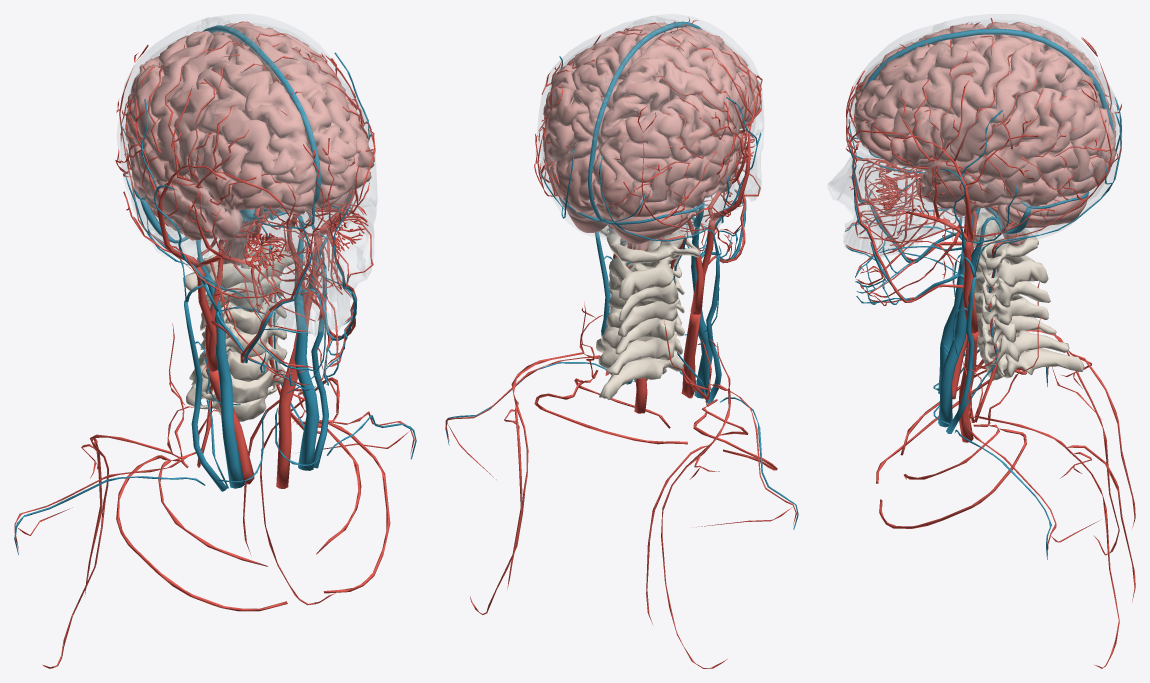
The model's file is brain-neck-atlas.glb.
3 views of the same model, side by side, from view 1: azimuth 30°, elevation 25°; view 2: azimuth 150°, elevation 25°; view 3: azimuth 270°, elevation 25° (orthographic). The views are drawn at different scales.
Visible parts, largest first — view 1: skull, brain, arteries-of-right-head-and-neck, arteries-of-left-head-and-neck, cervical-vertebrae, veins-of-right-head-and-neck, veins-of-left-head-and-neck, arteries-of-brain, veins-of-brain, brainstem; view 2: skull, brain, cervical-vertebrae, arteries-of-right-head-and-neck, arteries-of-left-head-and-neck, veins-of-right-head-and-neck, arteries-of-brain, cerebellum, veins-of-brain, veins-of-left-head-and-neck; view 3: skull, brain, arteries-of-left-head-and-neck, cervical-vertebrae, veins-of-left-head-and-neck, arteries-of-right-head-and-neck, arteries-of-brain, veins-of-brain, veins-of-right-head-and-neck, cerebellum.
Part boxes in pixels (x1=…): skull: x1=117, y1=14, x2=377, y2=336; brain: x1=125, y1=21, x2=374, y2=240; arteries-of-right-head-and-neck: x1=14, y1=44, x2=325, y2=668; arteries-of-left-head-and-neck: x1=239, y1=21, x2=414, y2=605; cervical-vertebrae: x1=183, y1=243, x2=305, y2=421; veins-of-right-head-and-neck: x1=14, y1=99, x2=316, y2=554; veins-of-left-head-and-neck: x1=273, y1=52, x2=416, y2=470; arteries-of-brain: x1=120, y1=33, x2=374, y2=227; veins-of-brain: x1=134, y1=25, x2=342, y2=252; brainstem: x1=223, y1=210, x2=269, y2=265; skull: x1=536, y1=14, x2=763, y2=247; brain: x1=543, y1=22, x2=761, y2=221; cervical-vertebrae: x1=596, y1=225, x2=700, y2=399; arteries-of-right-head-and-neck: x1=623, y1=39, x2=796, y2=668; arteries-of-left-head-and-neck: x1=445, y1=34, x2=706, y2=614; veins-of-right-head-and-neck: x1=599, y1=97, x2=798, y2=529; arteries-of-brain: x1=538, y1=17, x2=761, y2=217; cerebellum: x1=559, y1=198, x2=692, y2=244; veins-of-brain: x1=559, y1=21, x2=704, y2=227; veins-of-left-head-and-neck: x1=445, y1=56, x2=707, y2=445; skull: x1=828, y1=14, x2=1121, y2=256; brain: x1=854, y1=21, x2=1115, y2=216; arteries-of-left-head-and-neck: x1=845, y1=79, x2=1135, y2=668; cervical-vertebrae: x1=973, y1=212, x2=1084, y2=380; veins-of-left-head-and-neck: x1=845, y1=110, x2=1121, y2=559; arteries-of-right-head-and-neck: x1=845, y1=22, x2=1135, y2=555; arteries-of-brain: x1=864, y1=18, x2=1111, y2=203; veins-of-brain: x1=852, y1=28, x2=1114, y2=234; veins-of-right-head-and-neck: x1=845, y1=97, x2=1121, y2=393; cerebellum: x1=997, y1=193, x2=1088, y2=227.
Bounding box in the file's own units: 3.47 × 5.37 × 2.56.
